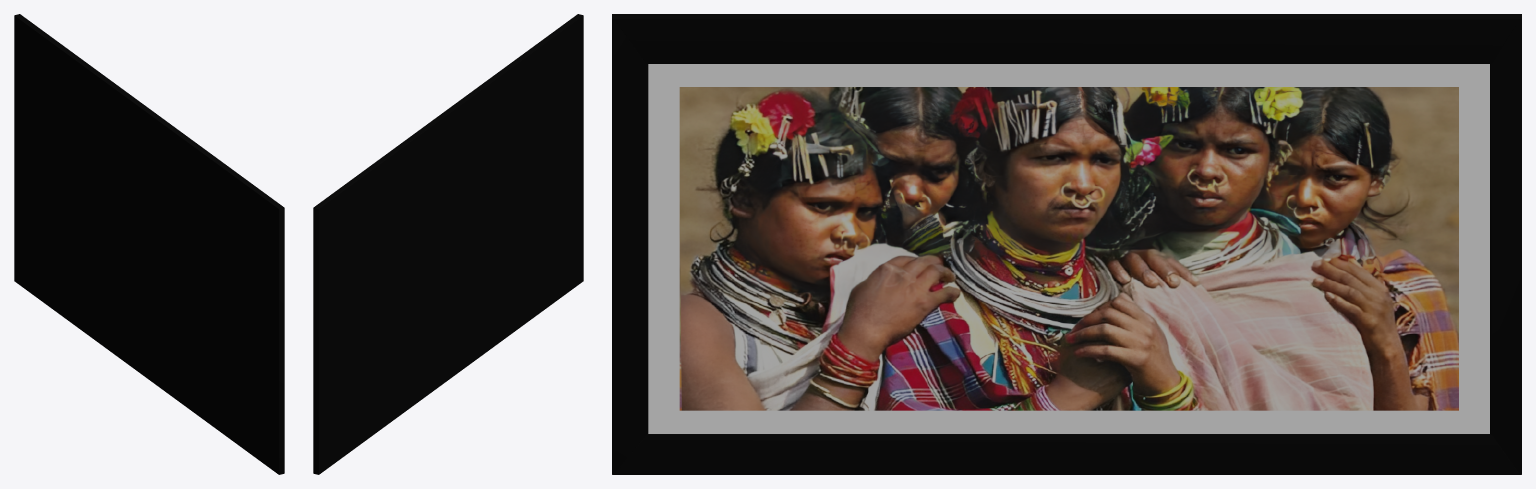
The model's file is Frame3.fbx.
The picture shows the model from 3 angles, left to right: view 1: azimuth 30°, elevation 25°; view 2: azimuth 150°, elevation 25°; view 3: azimuth 270°, elevation 25°; orthographic projection. The views are drawn at different scales.
Parts seen in each view (by area): view 1: Box046.001; view 2: Box046.001; view 3: Box046.001.
Boxes of the visible parts, x1,y1,x2,y2 form: Box046.001: [14, 14, 284, 474]; Box046.001: [313, 14, 583, 474]; Box046.001: [612, 14, 1521, 474].
Size of the model in its own units: 6.3 by 269 by 486.
3 materials, 1 textured.
